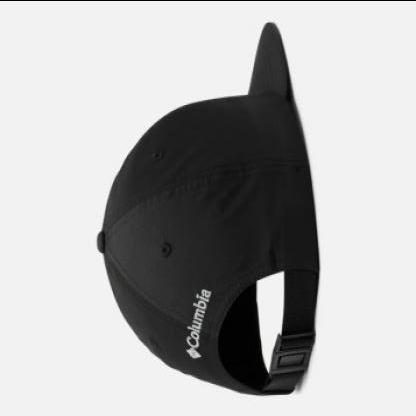cap: (92, 14, 322, 400)
